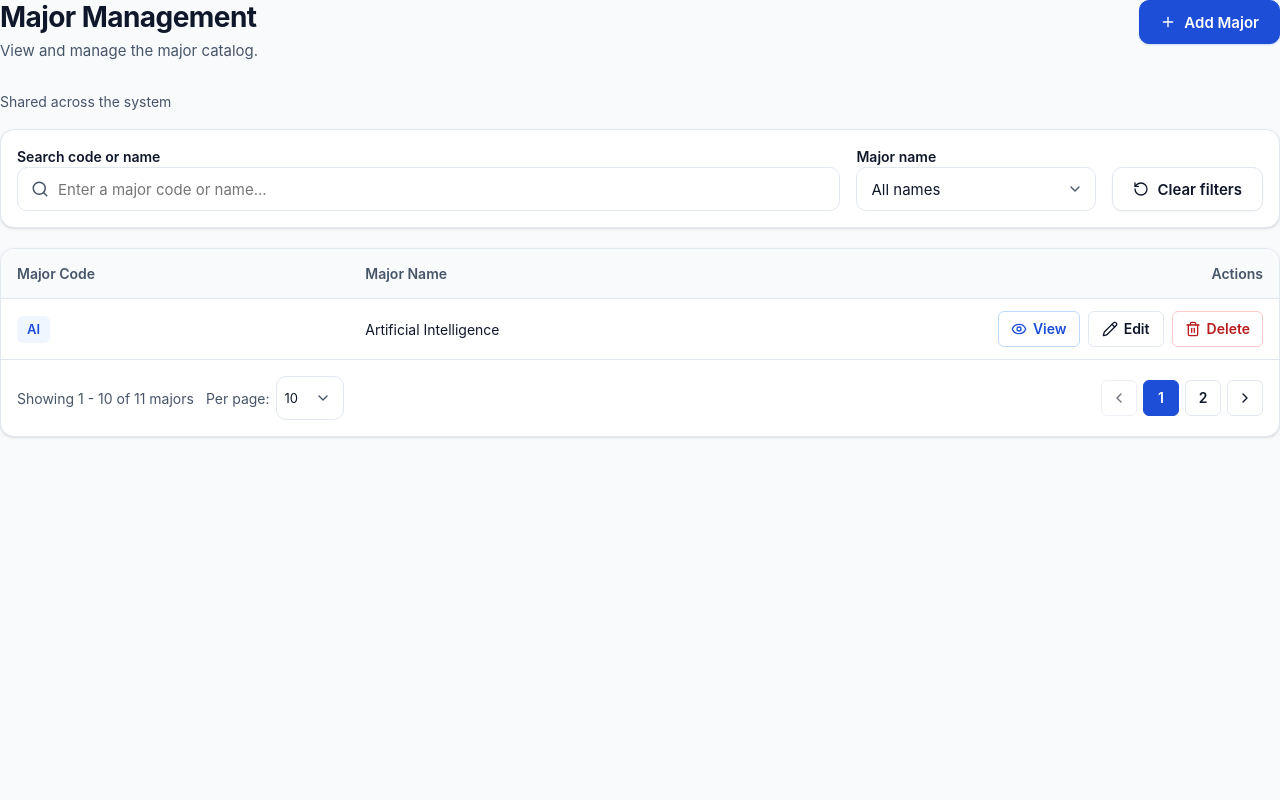
Major management › returns to the previous page after deleting its last major
Step 1. Click the button named "Next page" → (1245, 398), box [1227,380,1263,416]
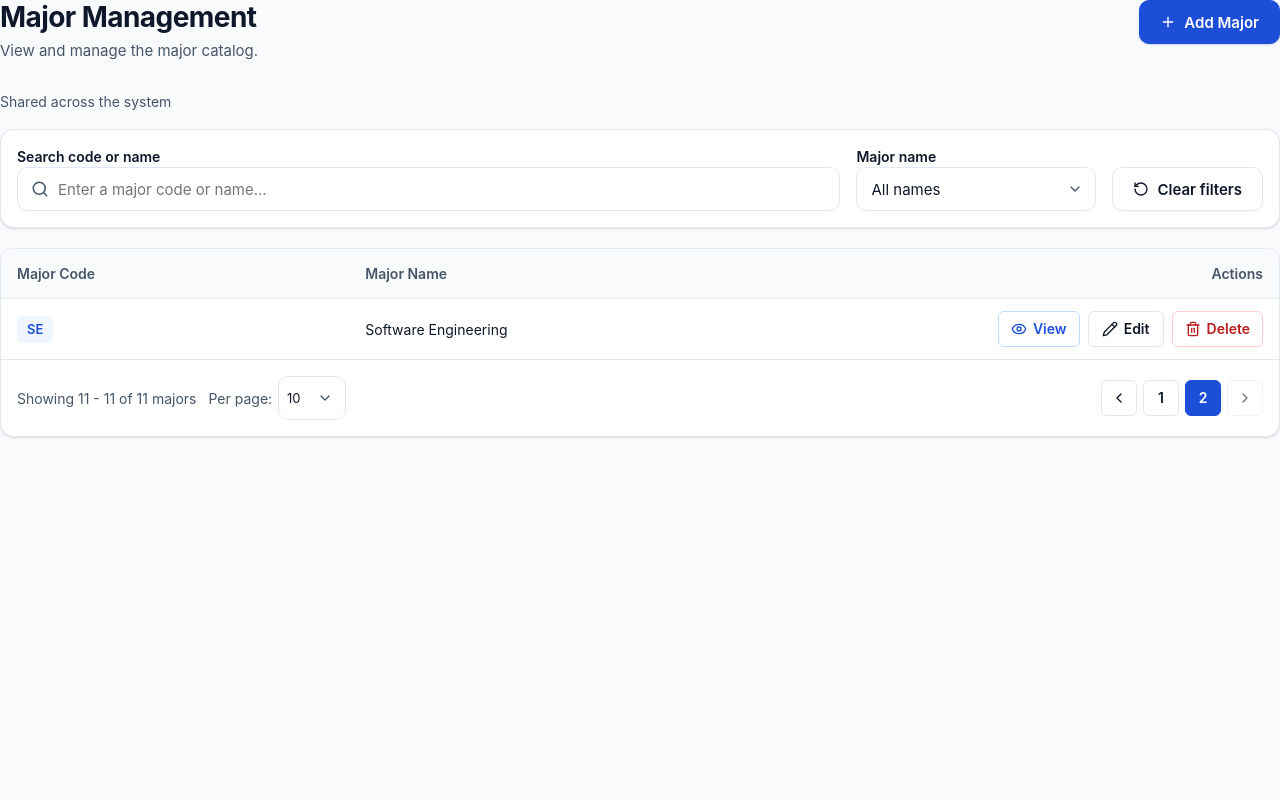
Step 2. Click the button with aria-label "Delete major SE" → (1217, 329), box [1172,311,1263,347]
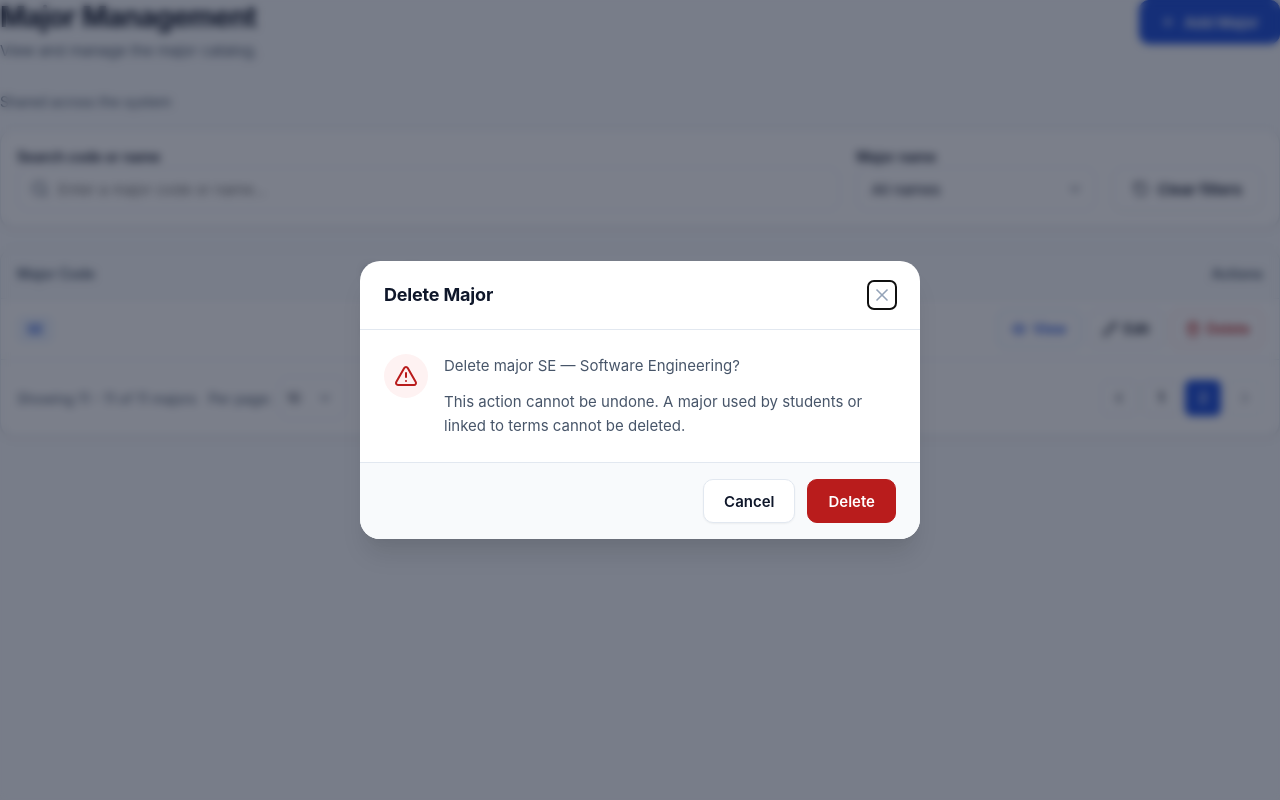
Step 3. Click the button "Delete" → (852, 501), box [808,479,896,523]
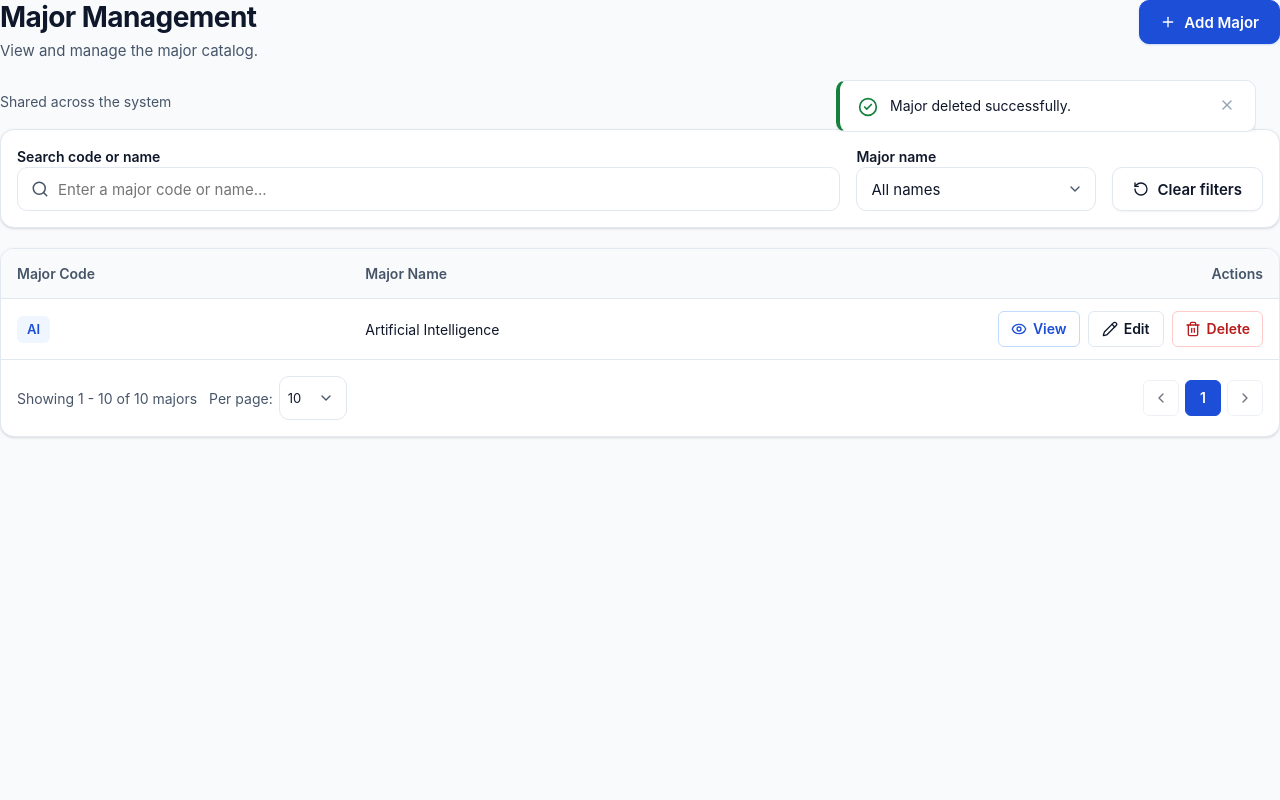
Check: the text "Major deleted successfully." is shown, box [890,97,1071,114]
Check: the button with aria-label "View major AI" is shown, box [998,311,1080,347]
Check: the dialog is gone
